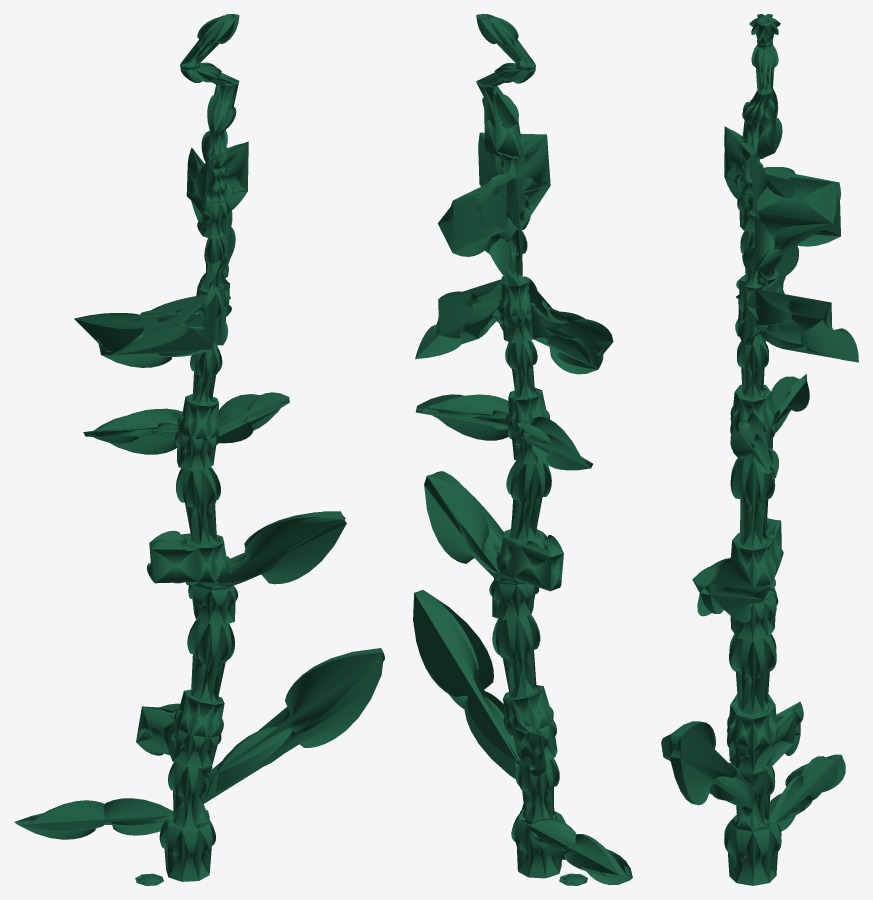
File: Водоросль  4.0.fbx
3 views of the same model, side by side, from view 1: azimuth 30°, elevation 25°; view 2: azimuth 150°, elevation 25°; view 3: azimuth 270°, elevation 25° (orthographic). The views are drawn at different scales.
Visible parts, largest first — view 1: Объект_Цилиндр_2; view 2: Объект_Цилиндр_2; view 3: Объект_Цилиндр_2.
Boxes of the visible parts, x1,y1,x2,y2 form: Объект_Цилиндр_2: (14, 14, 384, 885); Объект_Цилиндр_2: (413, 14, 632, 885); Объект_Цилиндр_2: (661, 14, 858, 885).
Size of the model in its own units: 630 by 1739 by 353.
